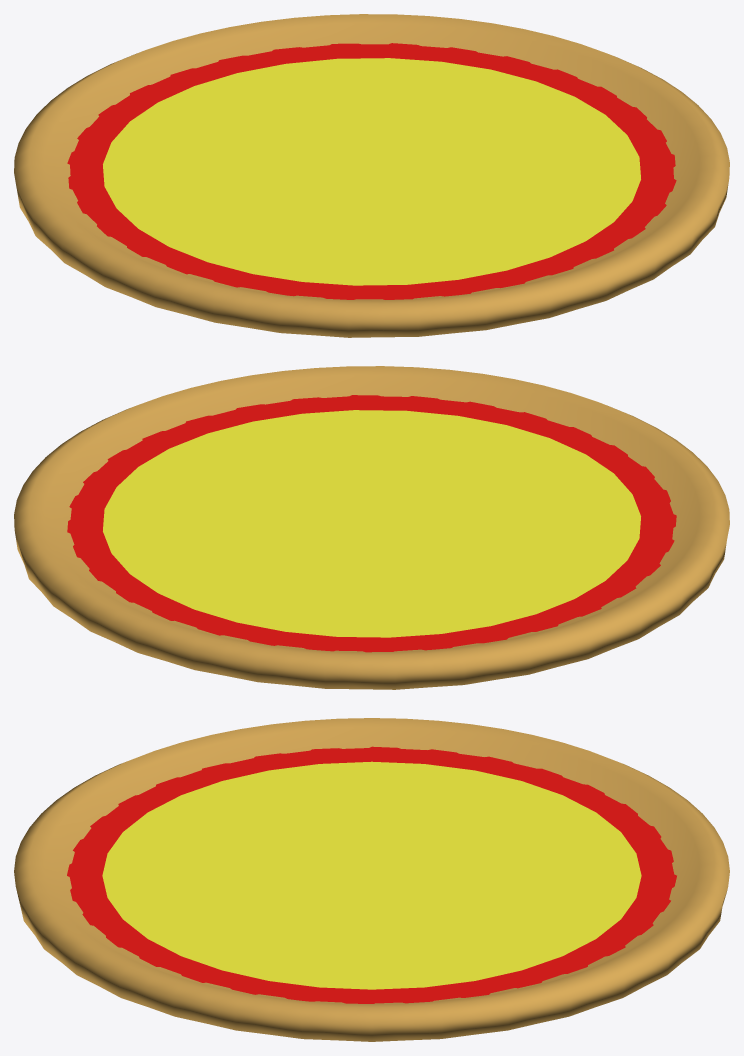
Rendered from FlattenedDoughCheeseBaked.glb.
3 views of the same model, one above another, from view 1: azimuth 30°, elevation 25°; view 2: azimuth 150°, elevation 25°; view 3: azimuth 270°, elevation 25° (orthographic).
Visible parts, largest first — view 1: Sauce.001, Dough; view 2: Sauce.001, Dough; view 3: Sauce.001, Dough.
Part boxes in pixels (bbox=[...]): Sauce.001: bbox=[67, 43, 676, 299]; Dough: bbox=[14, 14, 729, 337]; Sauce.001: bbox=[67, 395, 676, 652]; Dough: bbox=[14, 366, 729, 689]; Sauce.001: bbox=[67, 746, 676, 1003]; Dough: bbox=[14, 718, 729, 1041].
Bounding box in the file's own units: 1.95 × 0.1805 × 1.95.
